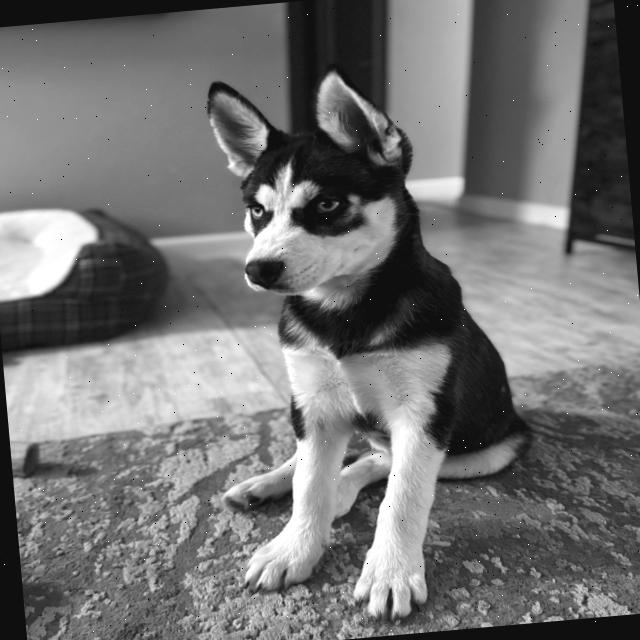siberian_husky_dog: (176, 51, 442, 316)
